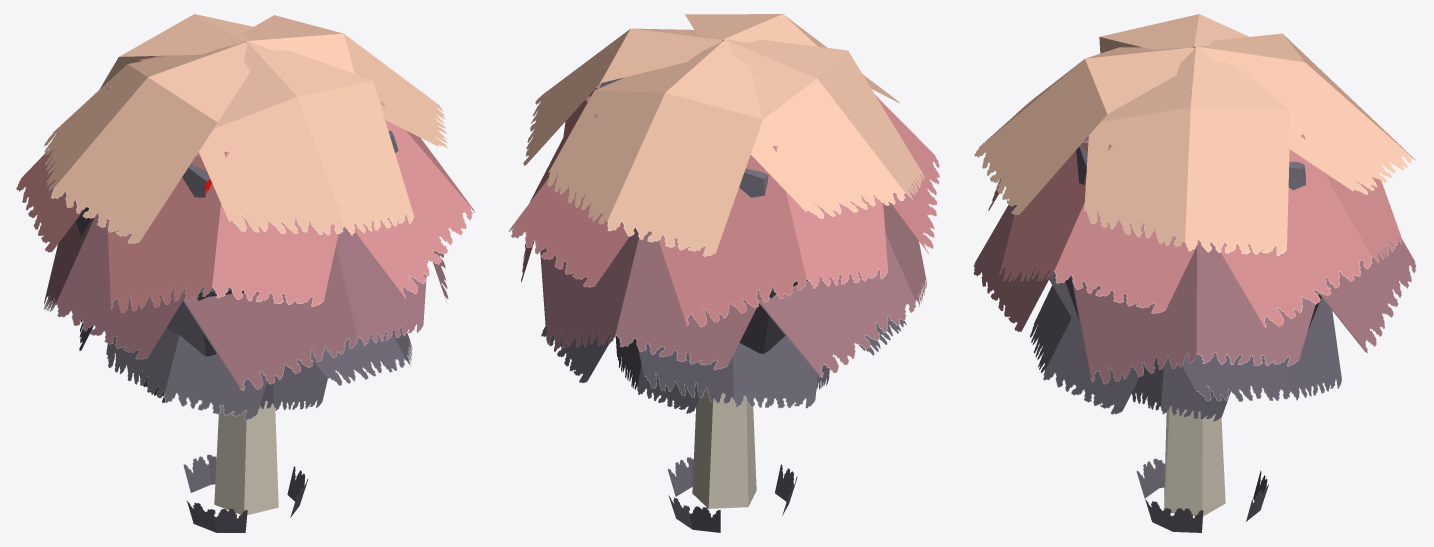
The model's file is arbol 1.fbx.
The picture shows the model from 3 angles, left to right: view 1: azimuth 30°, elevation 25°; view 2: azimuth 150°, elevation 25°; view 3: azimuth 270°, elevation 25°; orthographic projection.
Parts seen in each view (by area): view 1: tronco; view 2: tronco; view 3: tronco.
Boxes of the visible parts, x1,y1,x2,y2 form: tronco: [16, 14, 475, 532]; tronco: [508, 14, 939, 532]; tronco: [973, 14, 1416, 532].
Bounding box in the file's own units: 274 × 313 × 274.
